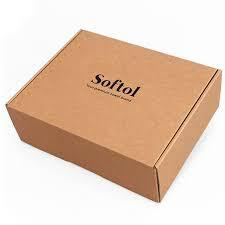box: (5, 30, 221, 203)
